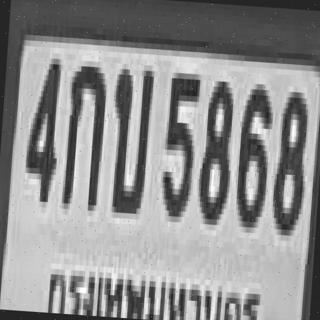A01: (60, 60, 106, 205)
A26: (106, 63, 152, 208)
N04: (22, 52, 61, 202)
N05: (158, 66, 199, 218)
N06: (233, 78, 271, 222)
N08: (195, 75, 233, 220), (269, 86, 307, 230)
